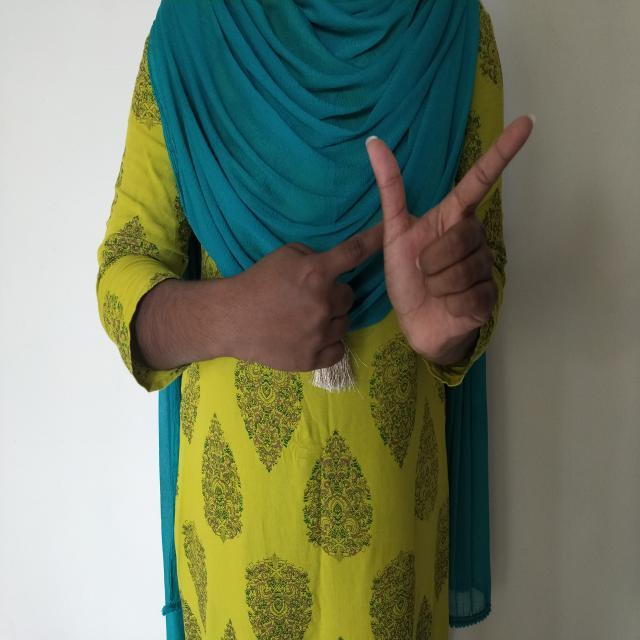Y: (224, 104, 543, 388)
